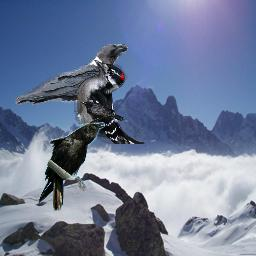Crow: (15, 44, 128, 105), (38, 122, 105, 212), (80, 101, 125, 124)
Woodpecker: (74, 60, 145, 144)
